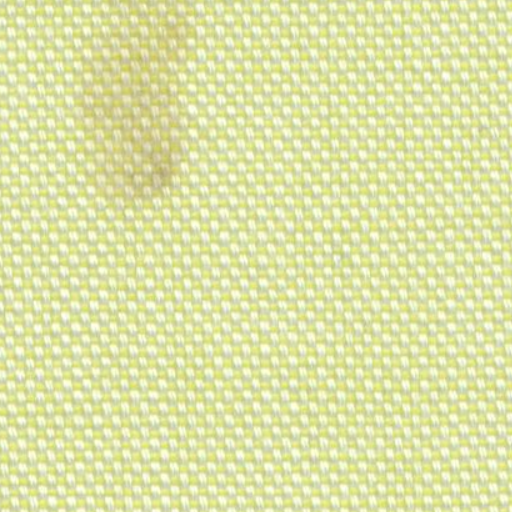WuZi: (76, 2, 216, 216)
